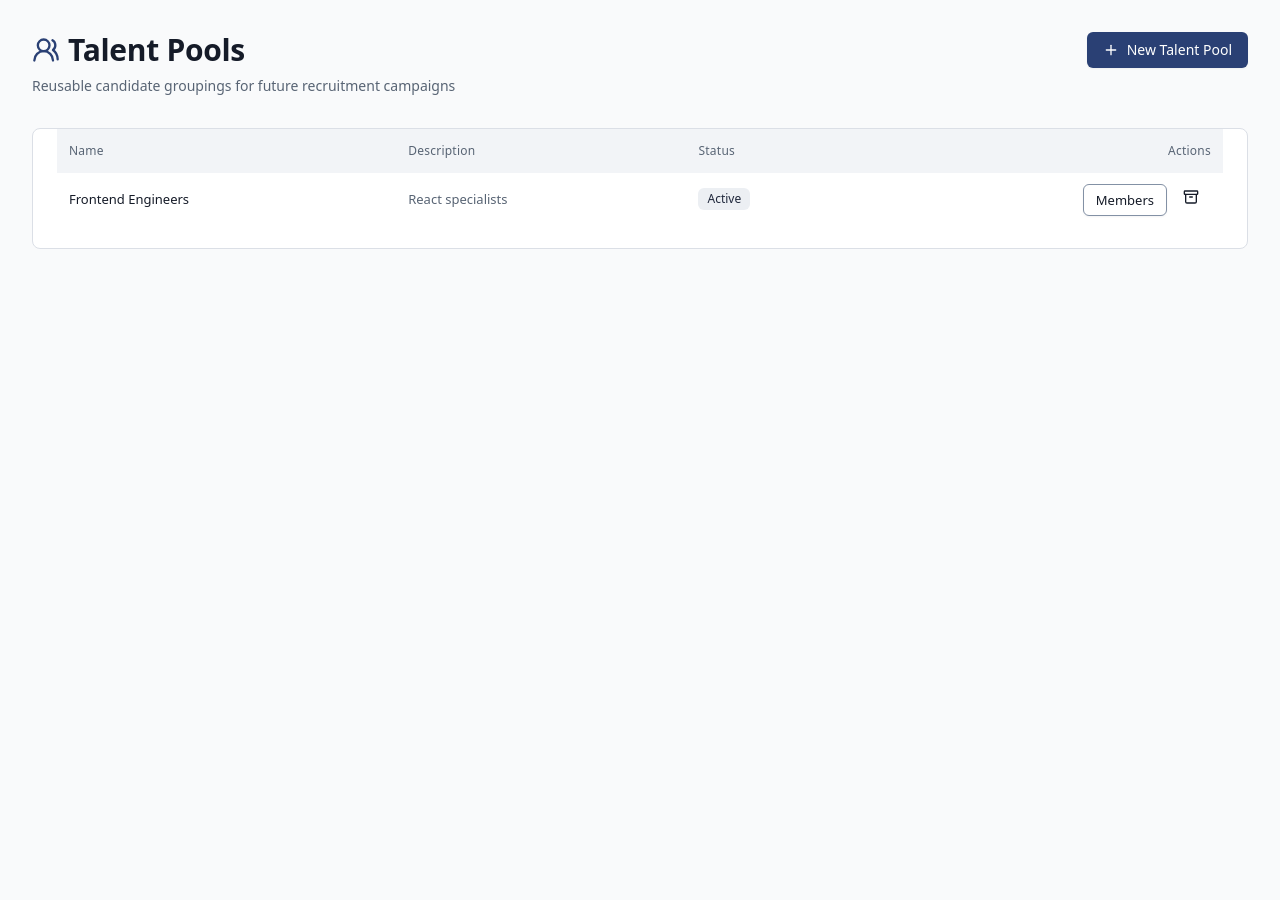
Test: Talent Pools list page › opens the members dialog and shows current members
Step 1. Click the button with test id "button-manage-members-1" → (1125, 200), box [1083,184,1167,216]
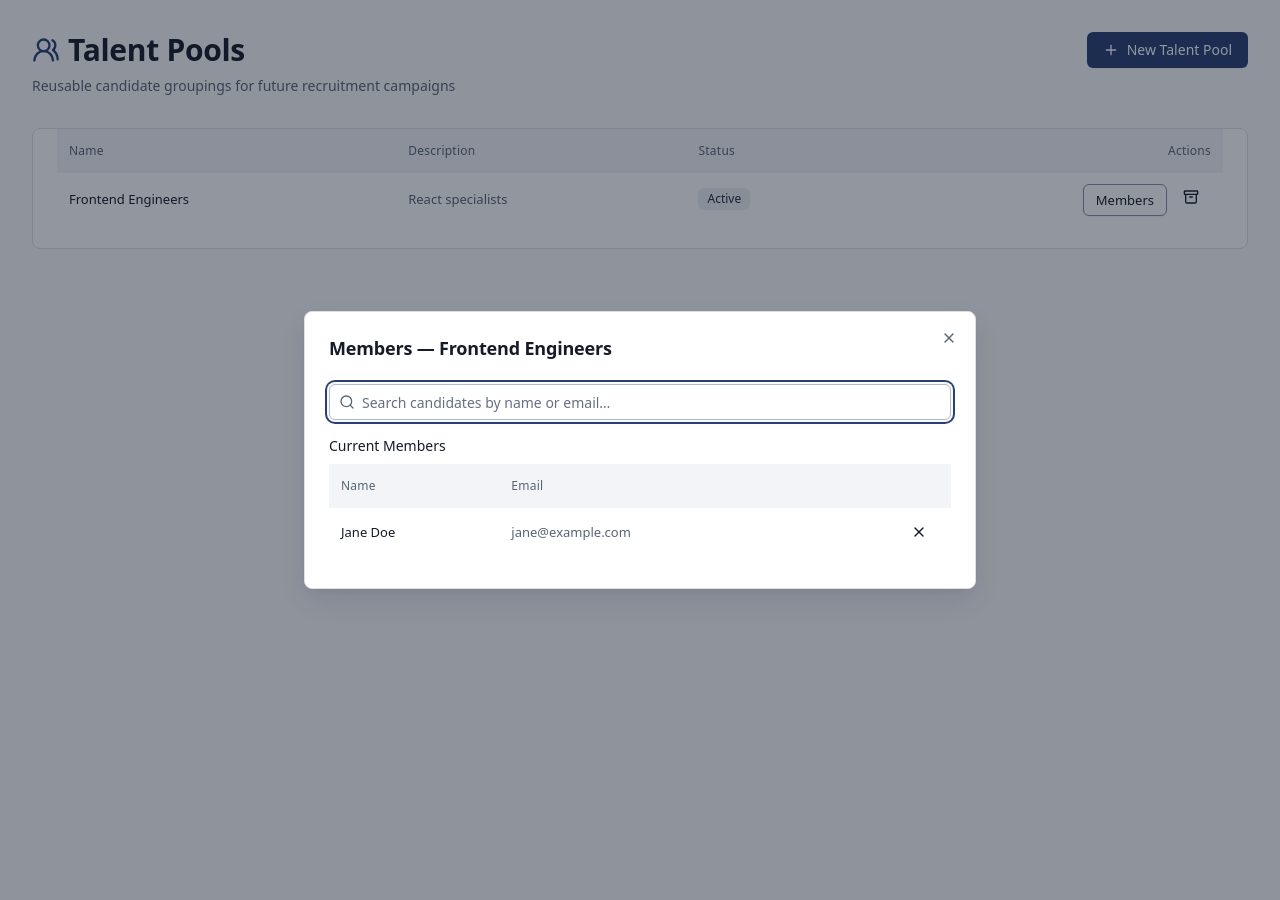
Expected: the row with test id "row-pool-member-1" shows "Jane Doe", [341,523,395,541]
